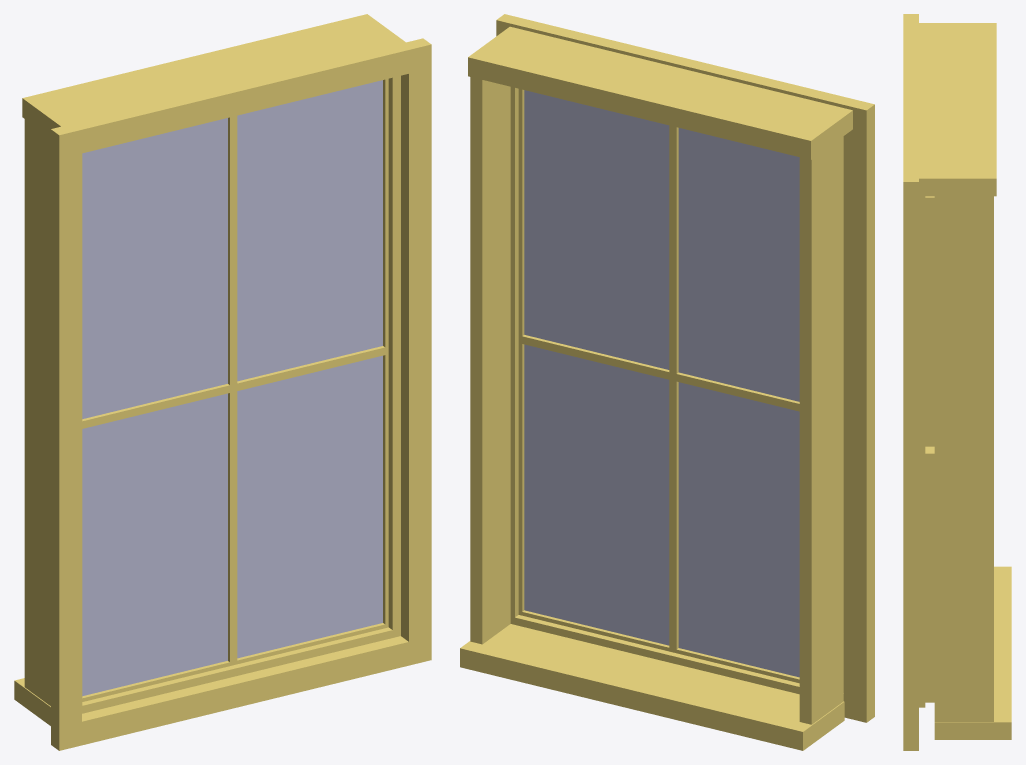
Rendered from window.fbx.
3 views of the same model, side by side, from view 1: azimuth 30°, elevation 25°; view 2: azimuth 150°, elevation 25°; view 3: azimuth 270°, elevation 25° (orthographic). The views are drawn at different scales.
Visible parts, largest first — view 1: Old_House_001.004, Old_House_001.013; view 2: Old_House_001.004, Old_House_001.013; view 3: Old_House_001.013.
Part boxes in pixels (x1,y1,x2,y2): Old_House_001.004: [82, 80, 382, 696]; Old_House_001.013: [14, 14, 431, 750]; Old_House_001.004: [524, 90, 799, 677]; Old_House_001.013: [460, 14, 874, 750]; Old_House_001.013: [903, 14, 1011, 750].
Size of the model in its own units: 102 by 161 by 27.78.
